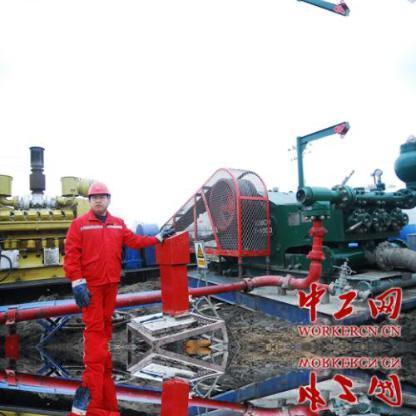helmet: (89, 181, 112, 199)
